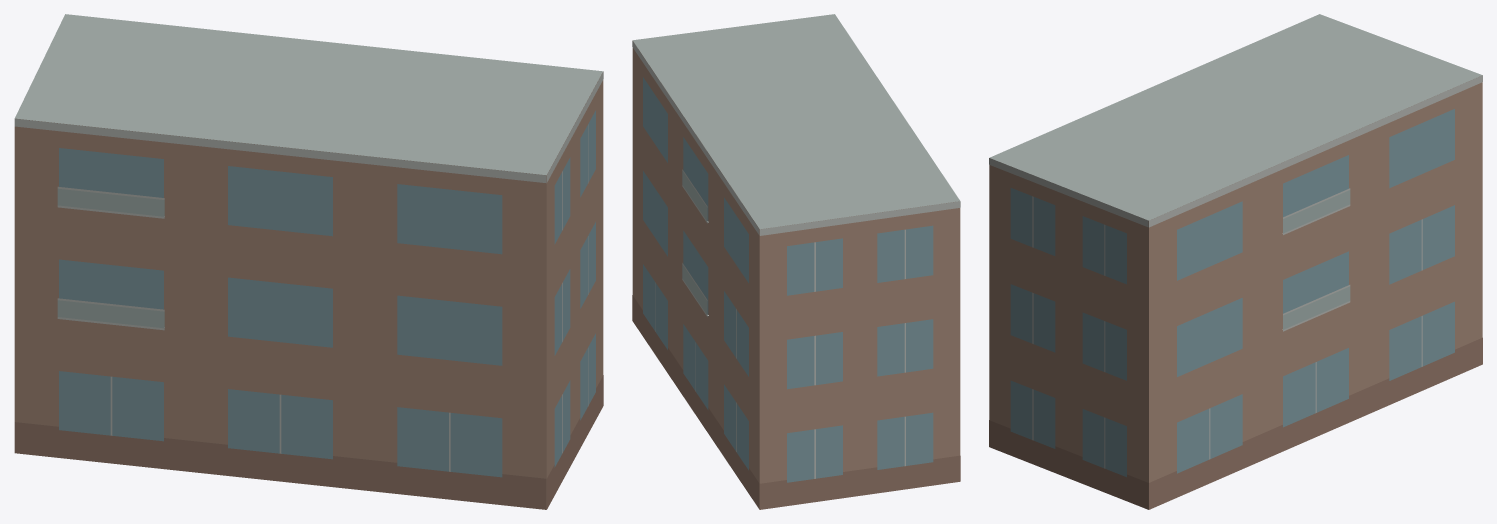
Rendered from survey-upis-32986804.glb.
3 views of the same model, side by side, from view 1: azimuth 30°, elevation 25°; view 2: azimuth 150°, elevation 25°; view 3: azimuth 270°, elevation 25° (orthographic). The views are drawn at different scales.
Visible parts, largest first — view 1: survey-upis-32986804.tmp; view 2: survey-upis-32986804.tmp; view 3: survey-upis-32986804.tmp.
Part boxes in pixels (x1=…): survey-upis-32986804.tmp: x1=14, y1=14, x2=603, y2=509; survey-upis-32986804.tmp: x1=632, y1=14, x2=960, y2=509; survey-upis-32986804.tmp: x1=989, y1=14, x2=1482, y2=509.
Bounding box in the file's own units: 15.64 × 10.2 × 15.78.
